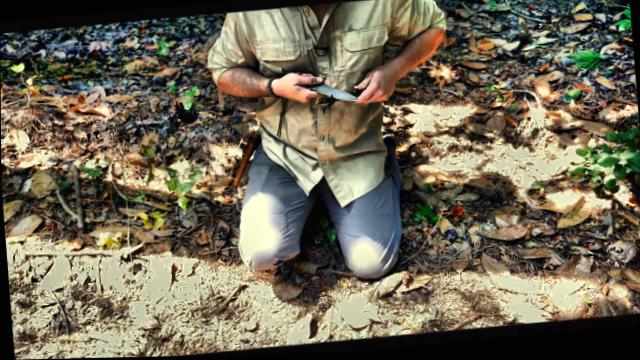knife: (284, 64, 371, 116)
